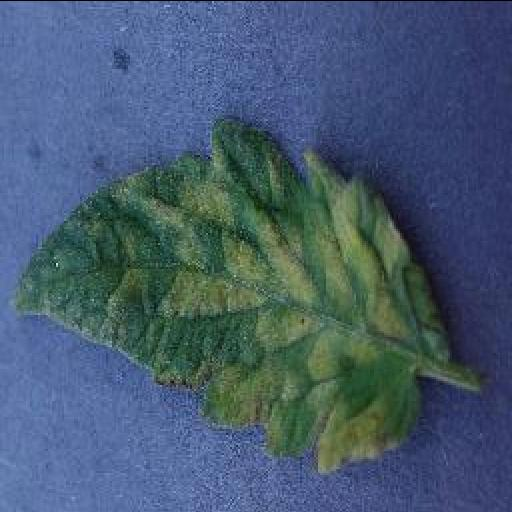disease_tomato: (10, 117, 452, 470)
